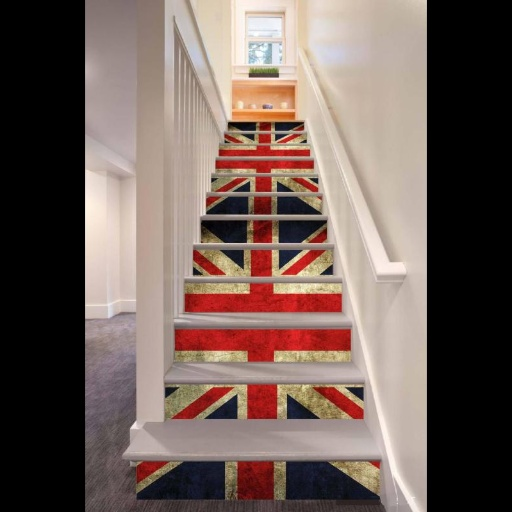Stairs: (171, 122, 355, 374), (136, 456, 380, 499), (164, 374, 364, 424)
